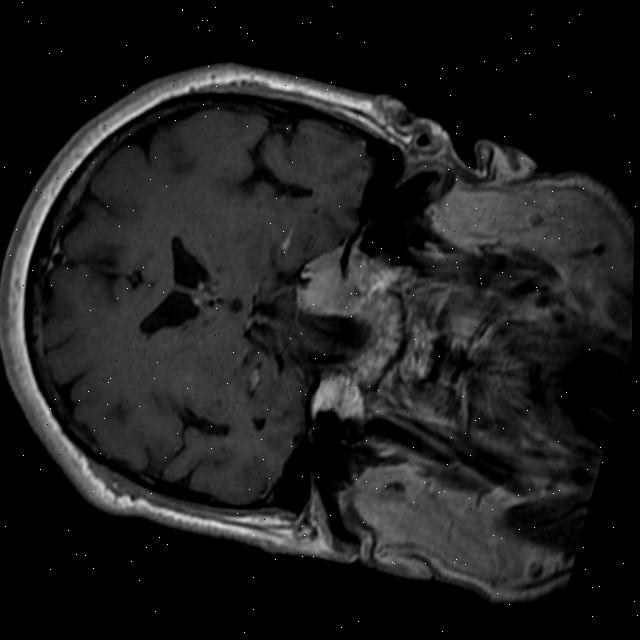Meningioma: (289, 230, 388, 329)
